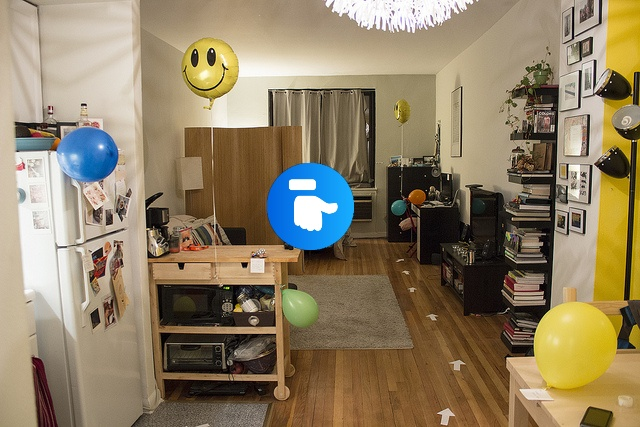like: (267, 163, 354, 250)
